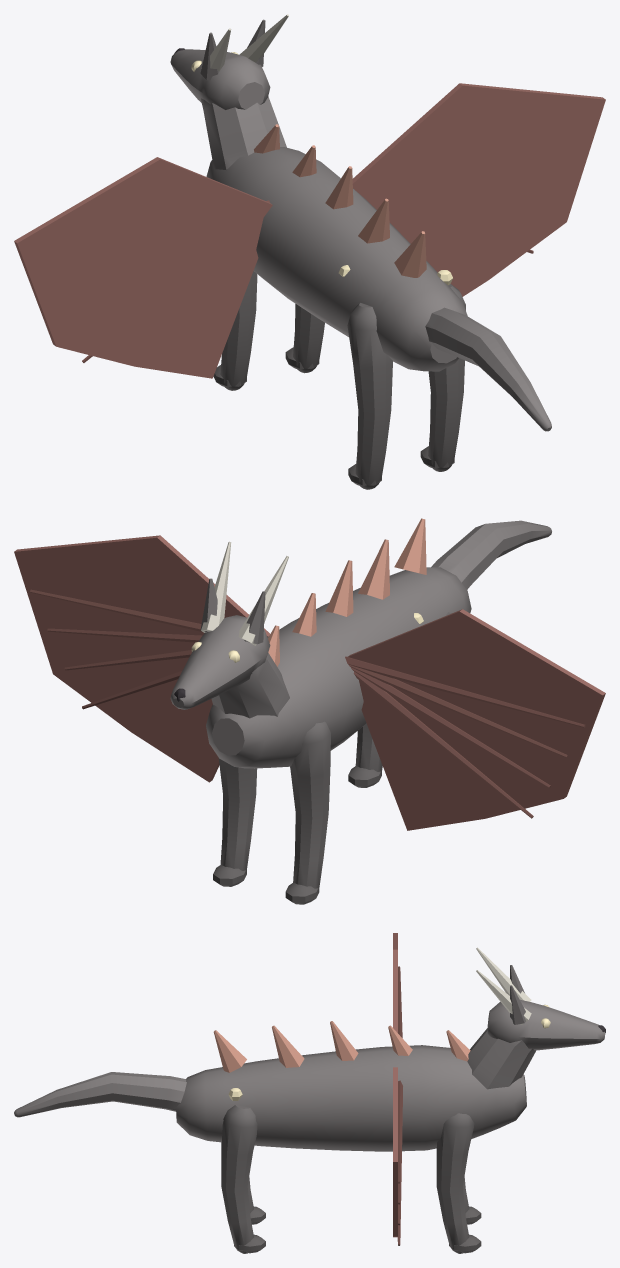
The model's file is ash_drake.gltf.
3 renders of one model, top to bottom at view 1: azimuth 30°, elevation 25°; view 2: azimuth 150°, elevation 25°; view 3: azimuth 270°, elevation 25°, orthographic. The views are drawn at different scales.
Visible parts, largest first — view 1: Body, FlapL, FlapR, SwingB2, SwingA2, SwingA1, SwingB1; view 2: FlapL, Body, FlapR, SwingA1, SwingB1, SwingA2; view 3: Body, SwingA2, SwingB1, FlapR, FlapL.
Part boxes in pixels (left/top/right/bottom): Body: left=170, top=14, right=551, bottom=431; FlapL: left=14, top=157, right=272, bottom=378; FlapR: left=352, top=83, right=605, bottom=296; SwingB2: left=347, top=303, right=392, bottom=489; SwingA2: left=420, top=284, right=465, bottom=471; SwingA1: left=213, top=271, right=257, bottom=390; SwingB1: left=285, top=304, right=324, bottom=373; FlapL: left=345, top=609, right=605, bottom=830; Body: left=170, top=518, right=551, bottom=768; FlapR: left=14, top=535, right=270, bottom=782; SwingA1: left=285, top=721, right=330, bottom=904; SwingB1: left=213, top=758, right=257, bottom=886; SwingA2: left=348, top=724, right=382, bottom=787; Body: left=14, top=947, right=605, bottom=1151; SwingA2: left=221, top=1105, right=265, bottom=1253; SwingB1: left=436, top=1113, right=481, bottom=1253; FlapR: left=393, top=1067, right=402, bottom=1245; FlapL: left=393, top=933, right=402, bottom=1037.
Size of the model in its own units: 3.16 by 1.8 by 3.46.
